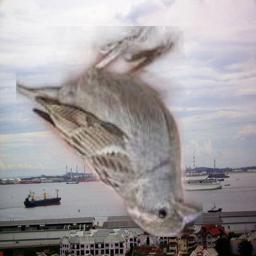Sparrow: (16, 26, 203, 237)
